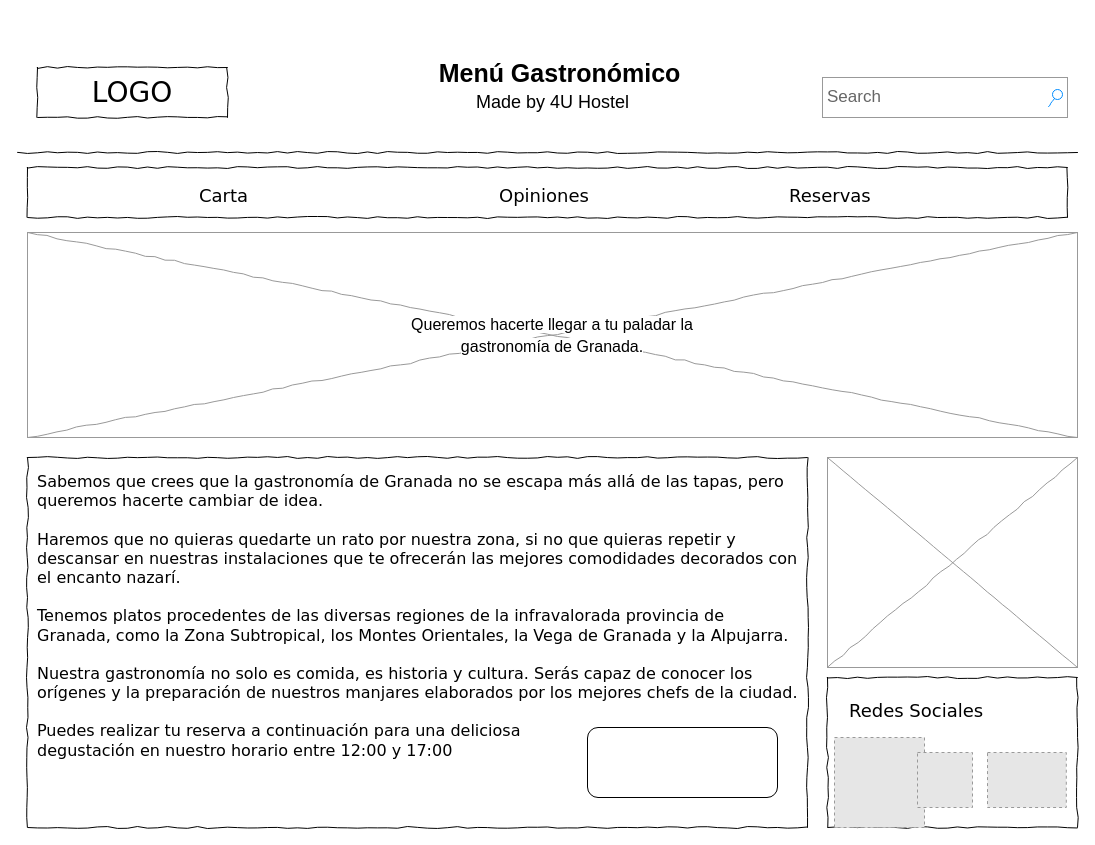
Some shapes in this 1095 by 845 pixel diagram are drawn without their labels. Grey dashed boxes stand in for pictures. The shapes that lost their labels are listed below. From the top down, each one's centre as x and y in pixels, then its label:
At (952,562): "Galería de Fotos (redirige a carta)".
At (682,762): "Reservar".
